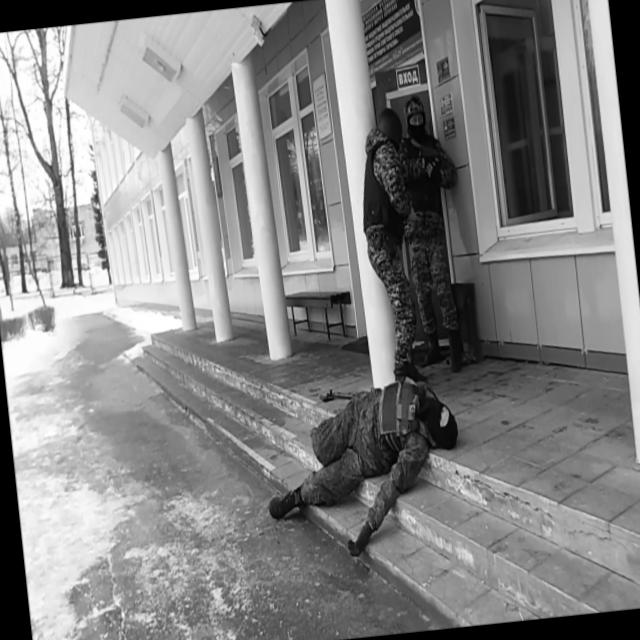gun: (402, 134, 450, 182), (380, 226, 397, 264)
person: (255, 370, 470, 566)
person with a gun: (390, 92, 478, 375), (349, 104, 428, 386)
